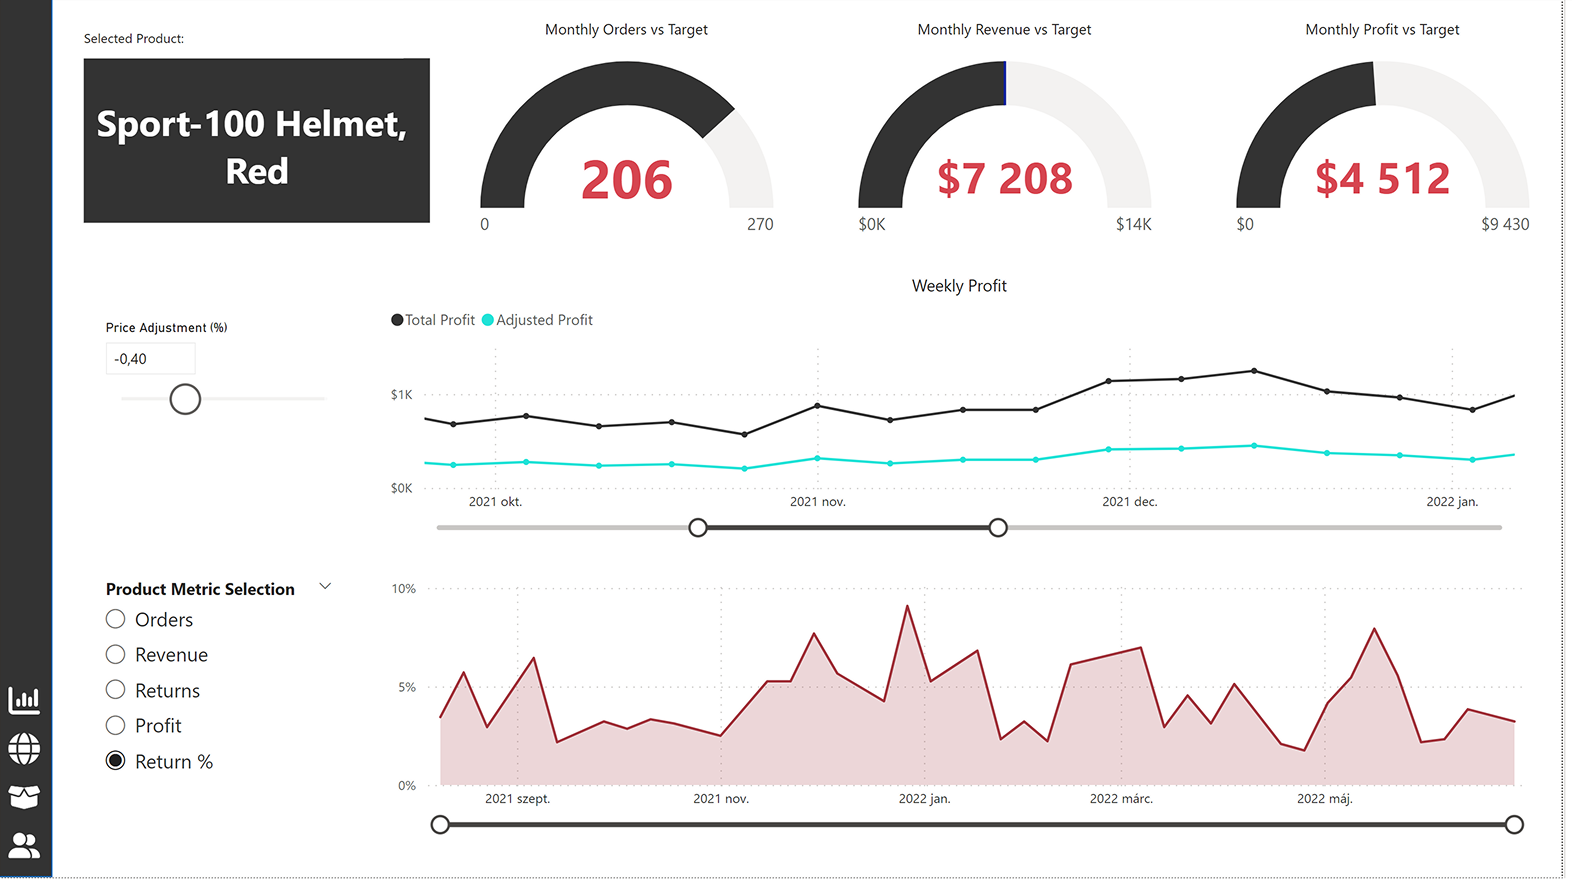

The page's visual inventory and layout, read from the dashboard file:
{"tool":"powerbi","page":{"name":"Product Detail","canvas":[1280,720],"ordinal":2},"visuals":[{"type":"shape","box":[0,0,45,720],"z":0},{"type":"gauge","title":"Monthly Orders vs Target","fields":{"Y":["Measure Table.Total Orders"],"MaxValue":["Measure Table.Order Target"]},"box":[390,17.7,250,200],"z":1000},{"type":"actionButton","box":[4.8,637.5,33.8,33.8],"z":1000,"group":"g1"},{"type":"gauge","title":"Monthly Revenue vs Target","fields":{"Y":["Measure Table.Total Revenue"],"TargetValue":["Measure Table.Total Revenue"]},"box":[699.2,17.7,250,200],"z":2000},{"type":"actionButton","box":[4.7,598,33.8,33.8],"z":2000,"group":"g1"},{"type":"gauge","title":"Monthly Profit vs Target","fields":{"Y":["Measure Table.Total Profit"],"MaxValue":["Measure Table.Profit Target"]},"box":[1008.5,17.7,250,200],"z":3000},{"type":"actionButton","box":[4.6,558.5,33.8,33.8],"z":3000,"group":"g1"},{"type":"areaChart","title":"Weekly Profit","fields":{"Y":["Measure Table.Total Profit","Measure Table.Adjusted Profit"],"Category":["Calendar Lookup.Start of Year Hierarchy.Year","Calendar Lookup.Start of Year Hierarchy.Start of Month","Calendar Lookup.Start of Year Hierarchy.Start of Week","Calendar Lookup.Start of Year Hierarchy.Date"]},"box":[316.2,226.2,942.3,219.2],"z":4000},{"type":"actionButton","box":[4.9,677,33.8,33.8],"z":4000,"group":"g1"},{"type":"areaChart","title":"Weekly Returns","fields":{"Y":["Measure Table.Total Orders"],"Category":["Calendar Lookup.Start of Year Hierarchy.Year","Calendar Lookup.Start of Year Hierarchy.Start of Month","Calendar Lookup.Start of Year Hierarchy.Start of Week","Calendar Lookup.Start of Year Hierarchy.Date"]},"box":[316.2,469.2,953.1,219.2],"z":5000},{"type":"card","fields":{"Values":["Min(Product Lookup.ProductName)"]},"box":[70.8,50,283.1,134.6],"z":6000},{"type":"textbox","box":[65.5,17.3,266.4,32.7],"z":7000},{"type":"group","id":"g1","title":"Navigation Buttons","box":[4.6,558.5,34.1,152.3],"z":8000},{"type":"slicer","fields":{"Values":["Price Adjustment (%).Price Adjustment (%)"]},"box":[75.4,258.5,215.4,113.8],"z":9000},{"type":"slicer","fields":{"Values":["Product Metric Selection.Product Metric Selection"]},"box":[75.4,469.2,210.8,191.5],"z":10000}]}

Visuals, with their boxes on the page's 1280x720 design canvas (x1, y1, x2, y2). These are canvas units, not pixel positions in the 1572x879 screenshot, which may show the page scaled, cropped or inside an application window:
shape: <bbox>0, 0, 45, 720</bbox>
"Monthly Orders vs Target" gauge: <bbox>390, 18, 640, 218</bbox>
actionButton: <bbox>5, 638, 39, 671</bbox>
"Monthly Revenue vs Target" gauge: <bbox>699, 18, 949, 218</bbox>
actionButton: <bbox>5, 598, 38, 632</bbox>
"Monthly Profit vs Target" gauge: <bbox>1008, 18, 1258, 218</bbox>
actionButton: <bbox>5, 558, 38, 592</bbox>
"Weekly Profit" areaChart: <bbox>316, 226, 1258, 445</bbox>
actionButton: <bbox>5, 677, 39, 711</bbox>
"Weekly Returns" areaChart: <bbox>316, 469, 1269, 688</bbox>
card - Min(Product Lookup.ProductName): <bbox>71, 50, 354, 185</bbox>
textbox: <bbox>66, 17, 332, 50</bbox>
"Navigation Buttons" group: <bbox>5, 558, 39, 711</bbox>
slicer - Price Adjustment (%).Price Adjustment (%): <bbox>75, 258, 291, 372</bbox>
slicer - Product Metric Selection.Product Metric Selection: <bbox>75, 469, 286, 661</bbox>
